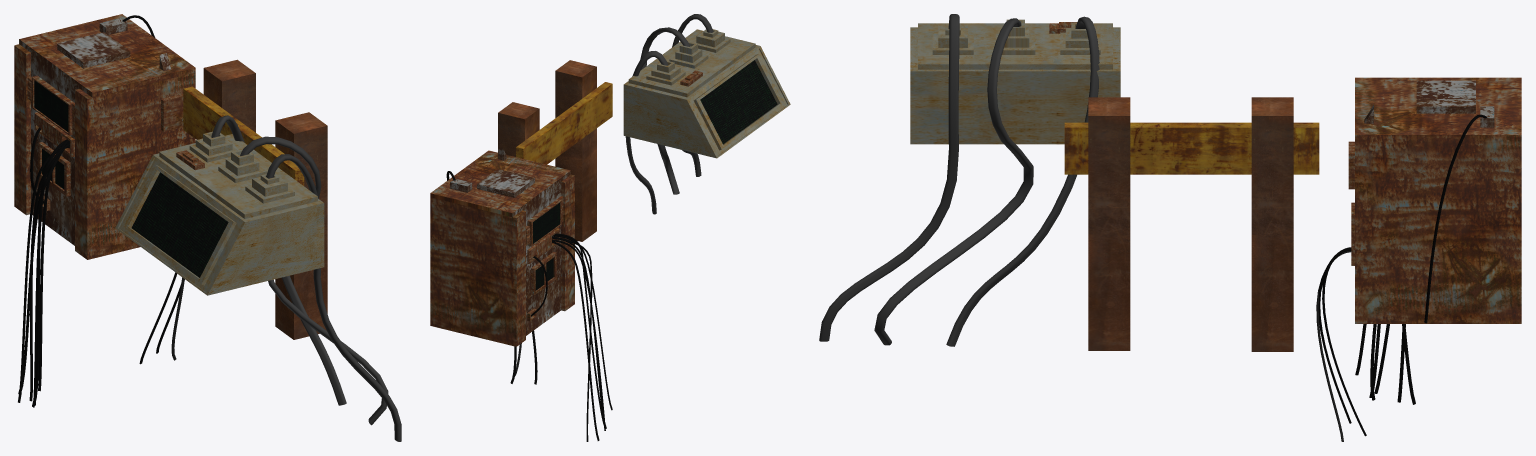
The model's file is system22.fbx.
3 renders of one model, left to right at view 1: azimuth 30°, elevation 25°; view 2: azimuth 150°, elevation 25°; view 3: azimuth 270°, elevation 25°, orthographic. The views are drawn at different scales.
Parts seen in each view (by area): view 1: System1, Counter, SomeObstacle, BézierCurve, BézierCurve.001, BézierCurve.002, BézierCurve.005, BézierCurve.007, BézierCurve.008, BézierCurve.003, BézierCurve.006, BézierCurve.004; view 2: System1, Counter, SomeObstacle, BézierCurve.001, BézierCurve.002, BézierCurve.007, BézierCurve, BézierCurve.008, BézierCurve.003, BézierCurve.005, BézierCurve.006; view 3: System1, SomeObstacle, Counter, BézierCurve.001, BézierCurve, BézierCurve.002, BézierCurve.009.
Part boxes in pixels (box(x1,y1,x2,y2)): System1: box(14, 14, 195, 259); Counter: box(115, 131, 324, 295); SomeObstacle: box(183, 59, 327, 339); BézierCurve: box(266, 154, 401, 441); BézierCurve.001: box(240, 136, 388, 425); BézierCurve.002: box(211, 115, 346, 405); BézierCurve.005: box(38, 142, 69, 391); BézierCurve.007: box(18, 145, 69, 402); BézierCurve.008: box(29, 139, 69, 401); BézierCurve.003: box(18, 141, 69, 394); BézierCurve.006: box(33, 139, 66, 405); BézierCurve.004: box(32, 147, 56, 407); System1: box(430, 148, 574, 346); Counter: box(623, 29, 790, 158); SomeObstacle: box(498, 60, 612, 241); BézierCurve.001: box(640, 27, 689, 194); BézierCurve.002: box(625, 51, 668, 214); BézierCurve.007: box(552, 241, 599, 440); BézierCurve: box(672, 14, 713, 176); BézierCurve.008: box(554, 233, 605, 427); BézierCurve.003: box(552, 236, 592, 441); BézierCurve.005: box(552, 235, 612, 410); BézierCurve.006: box(552, 237, 606, 428); System1: box(1348, 77, 1521, 323); SomeObstacle: box(1064, 97, 1319, 351); Counter: box(910, 19, 1120, 144); BézierCurve.001: box(874, 18, 1033, 345); BézierCurve: box(819, 14, 959, 341); BézierCurve.002: box(946, 16, 1099, 346); BézierCurve.009: box(1424, 114, 1486, 323).
Bounding box in the file's own units: 258 × 464 × 694.
